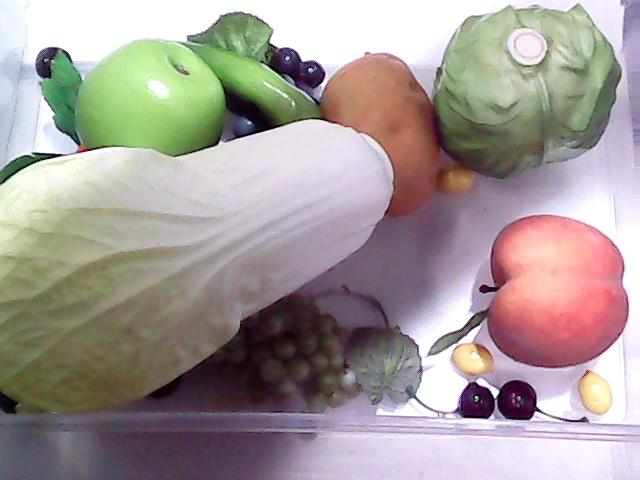apple: (71, 38, 229, 158)
cabbage: (429, 0, 623, 182)
carrot: (0, 46, 90, 182)
grape: (180, 290, 366, 409), (195, 14, 328, 84)
napa cabbage: (0, 123, 392, 420)
peach: (477, 213, 631, 368)
pepper: (157, 28, 325, 123)
potato: (322, 51, 438, 219)
